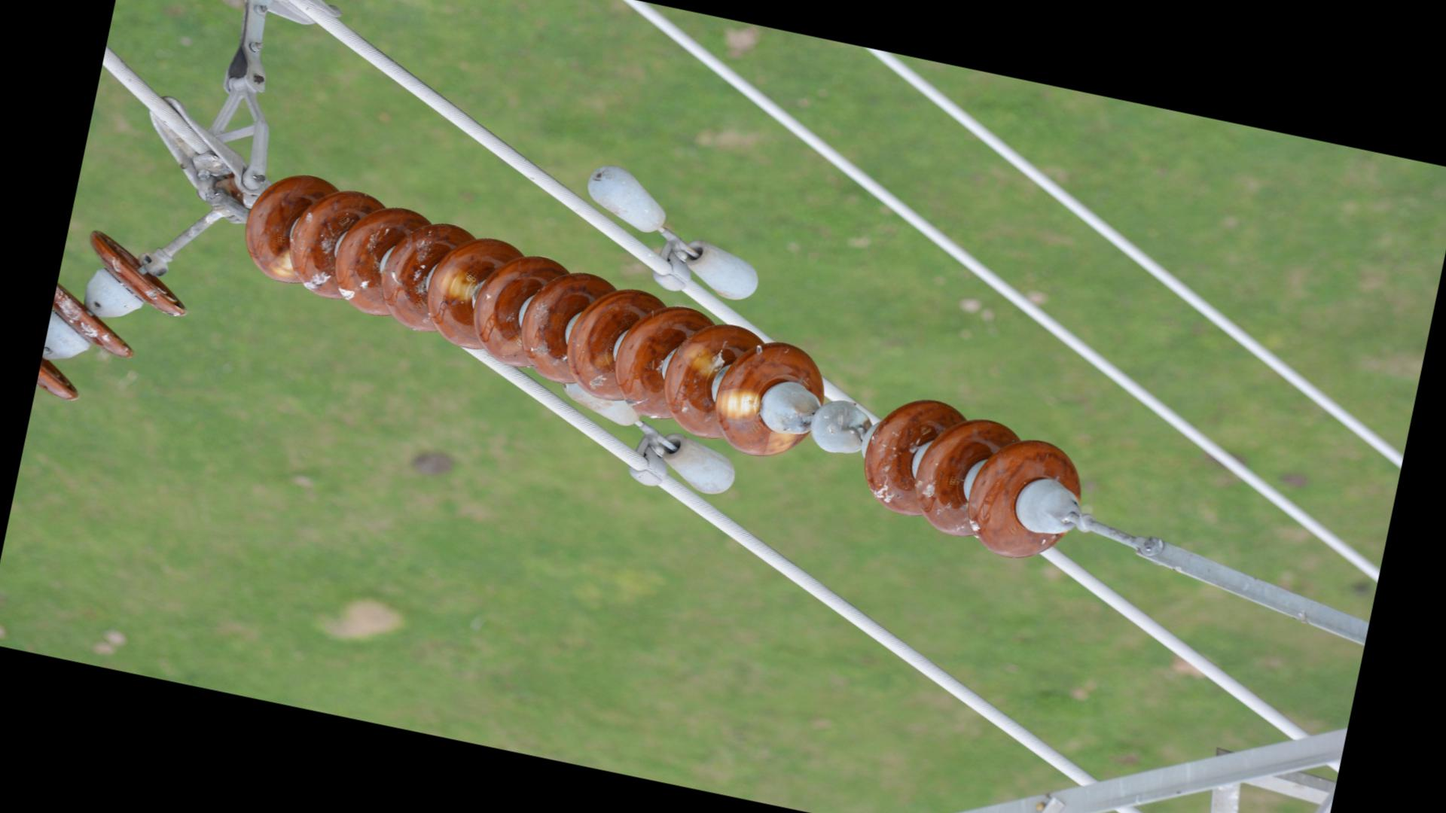damper: (565, 156, 780, 314), (541, 377, 752, 508)
